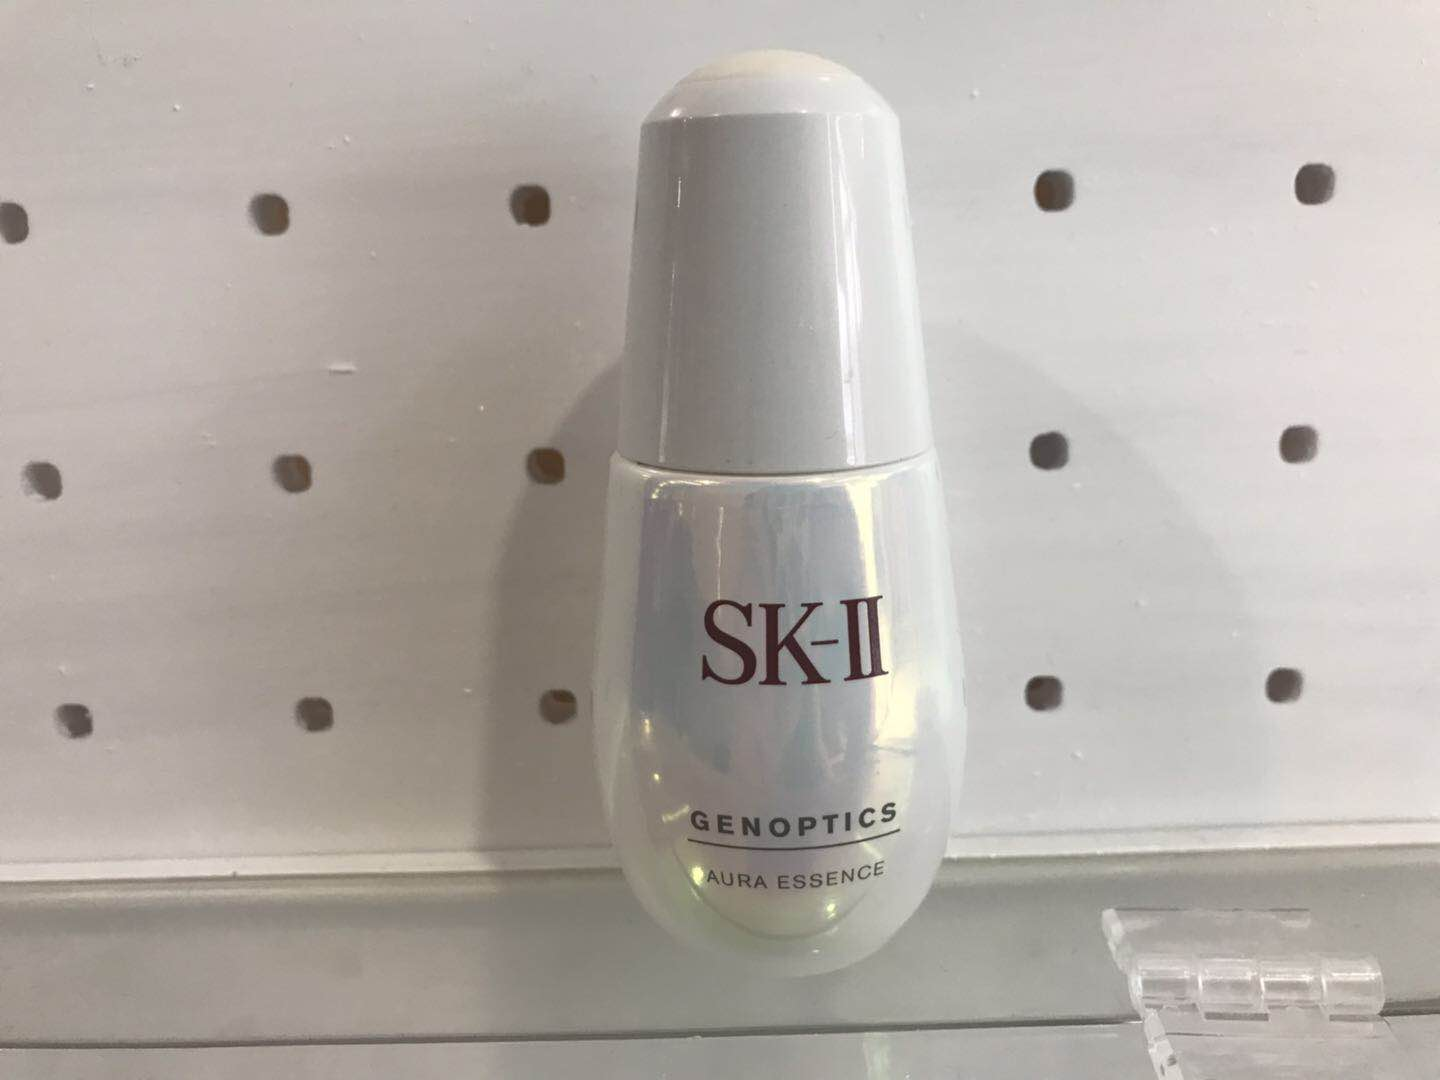sk2: (569, 39, 994, 1012)
